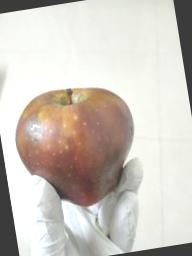Apple Unripe: (0, 69, 169, 228)
